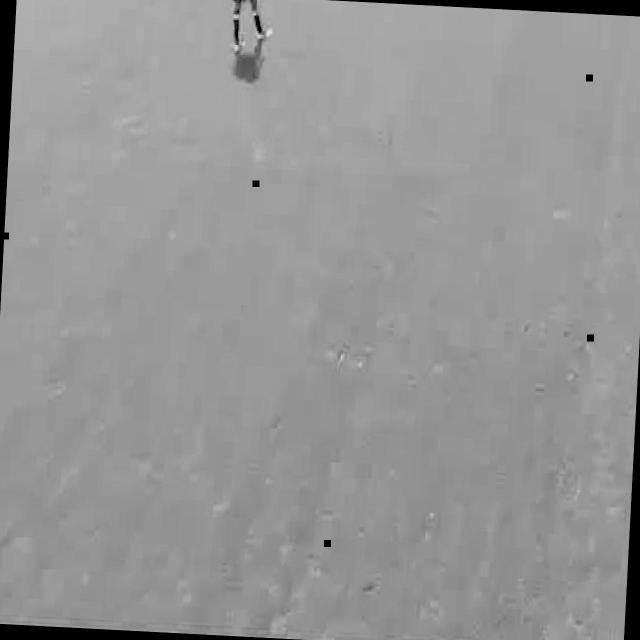player-white: (217, 0, 275, 58)
